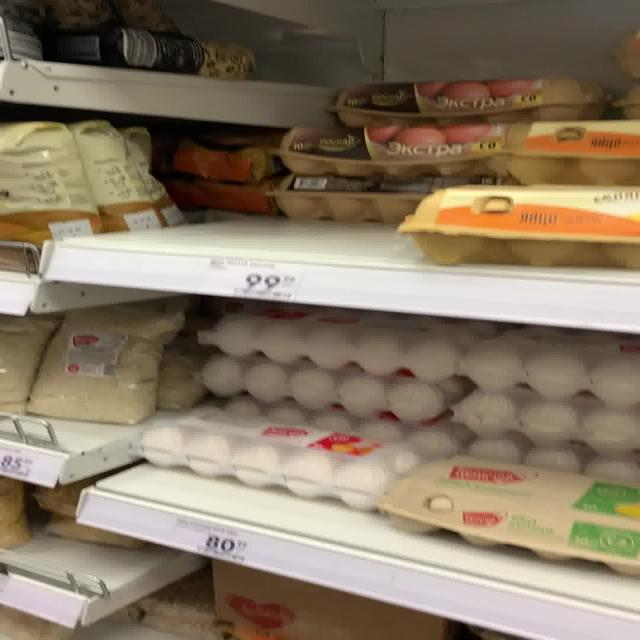egg box: (372, 449, 637, 579), (135, 402, 423, 520), (398, 185, 637, 272), (21, 301, 182, 425), (268, 120, 507, 179), (329, 75, 601, 125)
